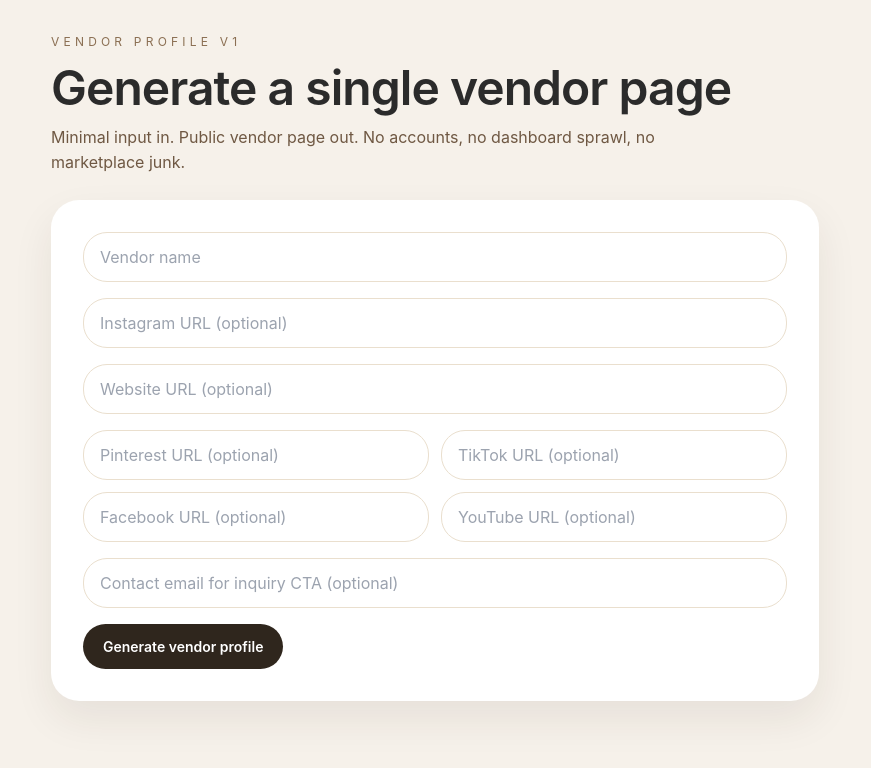
Test: VendorProfileCreatePage truth copy › keeps vendor draft and published copy framed as a public page, not a live shell
The image size is (871, 768).
Type "Golden Hour Studio" into the field with placeholder "Vendor name" at (435, 257), box [83, 232, 787, 282]
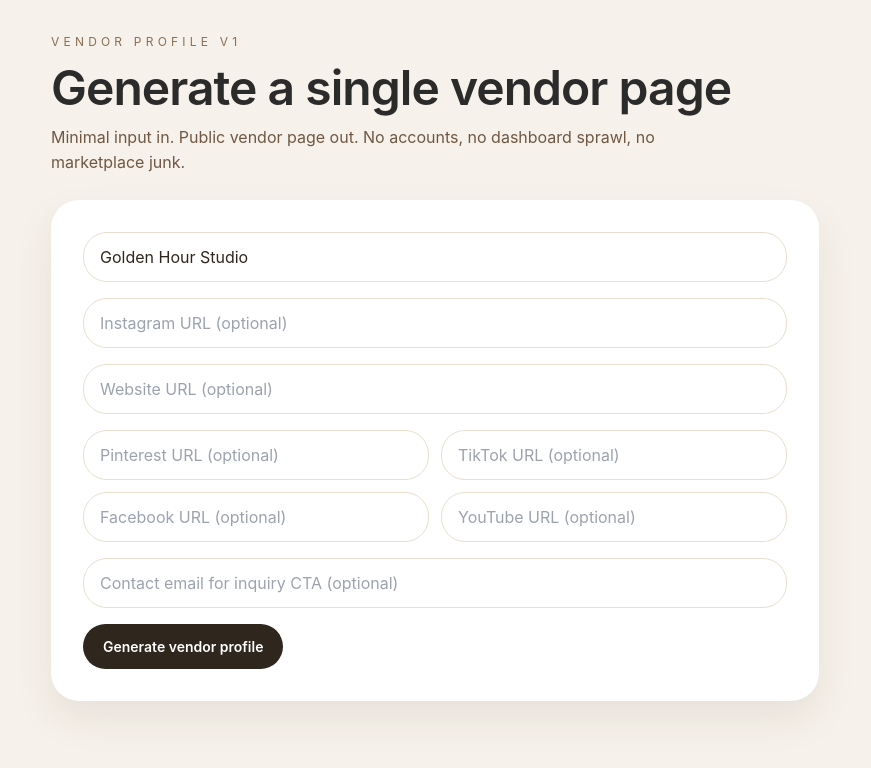
Click the button "Generate vendor profile" at (183, 646), box [83, 624, 284, 669]
(page scrolled)
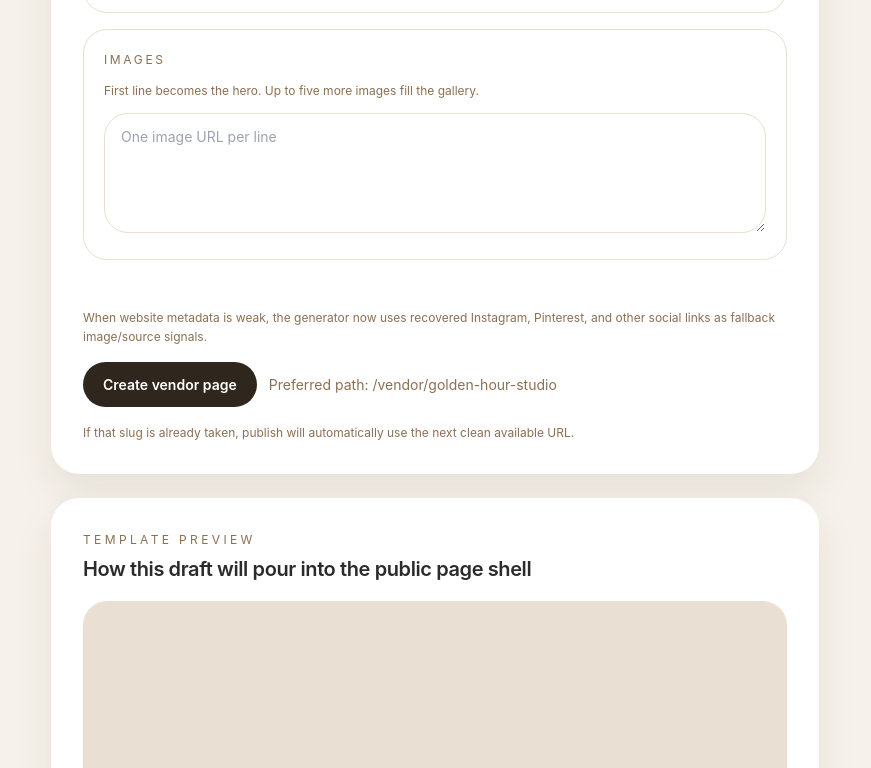
Check: the heading "How this draft will pour into the public page shell" is shown, box [83, 557, 531, 581]
Click the button "Create vendor page" at (170, 384), box [83, 362, 257, 407]
(page scrolled)
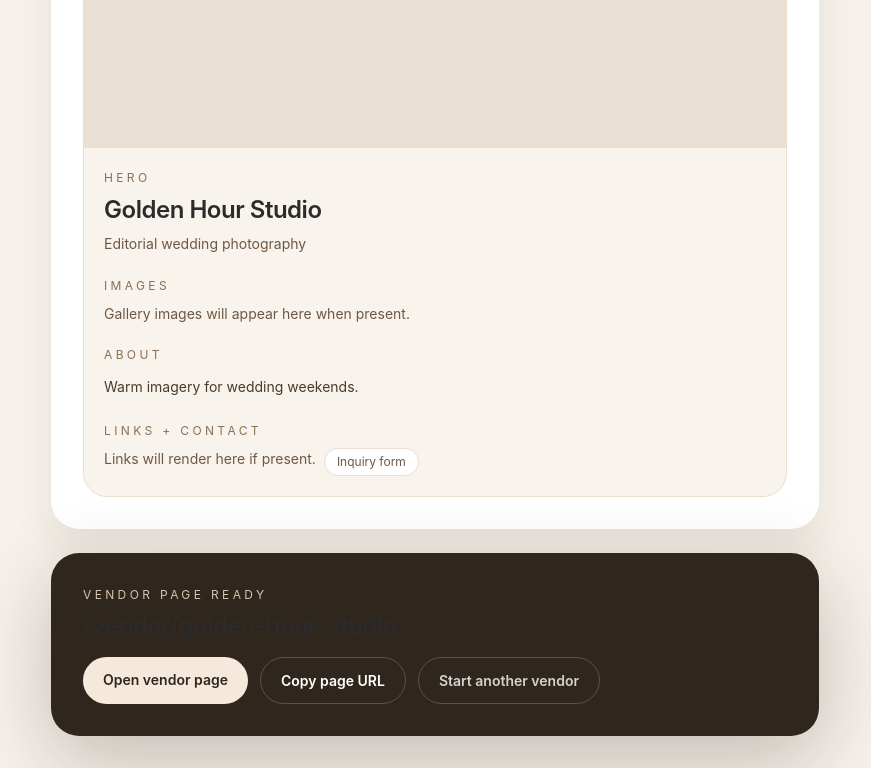
Check: the text "Vendor page ready" is shown, box [83, 587, 267, 602]
Check: the button "Copy page URL" is shown, box [260, 657, 406, 704]
